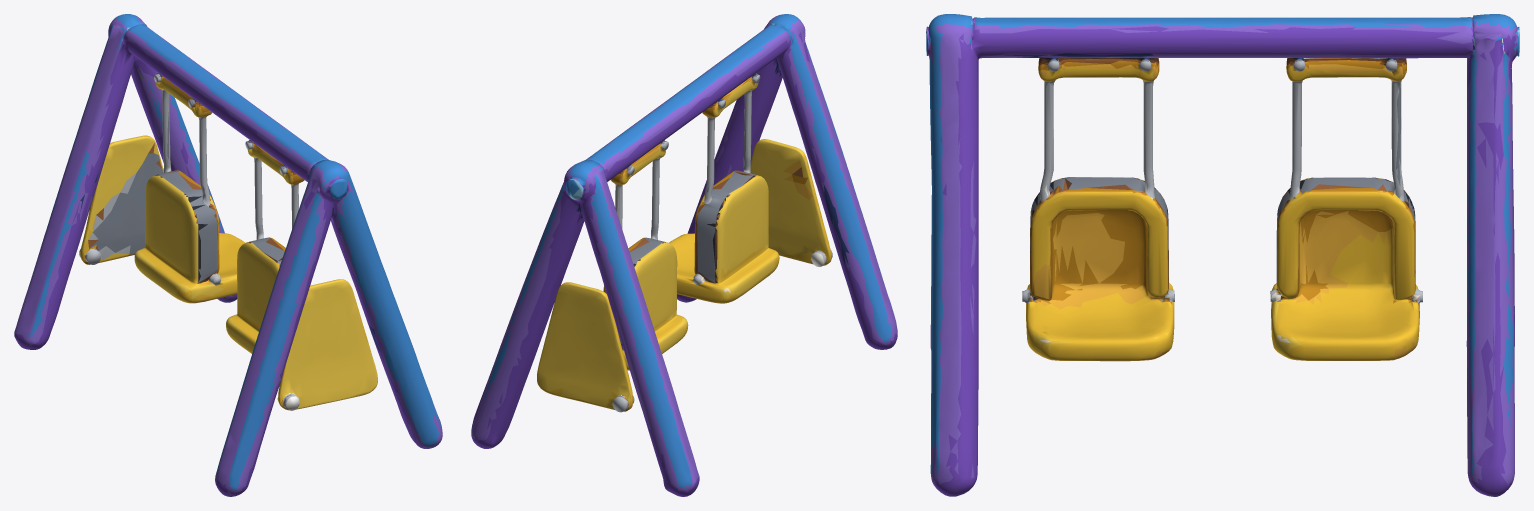
File: SM_swing_kids.glb
3 views of the same model, side by side, from view 1: azimuth 30°, elevation 25°; view 2: azimuth 150°, elevation 25°; view 3: azimuth 270°, elevation 25° (orthographic). The views are drawn at different scales.
Visible parts, largest first — view 1: SM_swing_kids; view 2: SM_swing_kids; view 3: SM_swing_kids.
Part boxes in pixels (bbox=[...]): SM_swing_kids: bbox=[14, 14, 442, 496]; SM_swing_kids: bbox=[471, 14, 897, 496]; SM_swing_kids: bbox=[926, 14, 1519, 496].
Size of the model in its own units: 1.37 by 1.8 by 2.34.
Materials: 1 (1 with a texture image).
